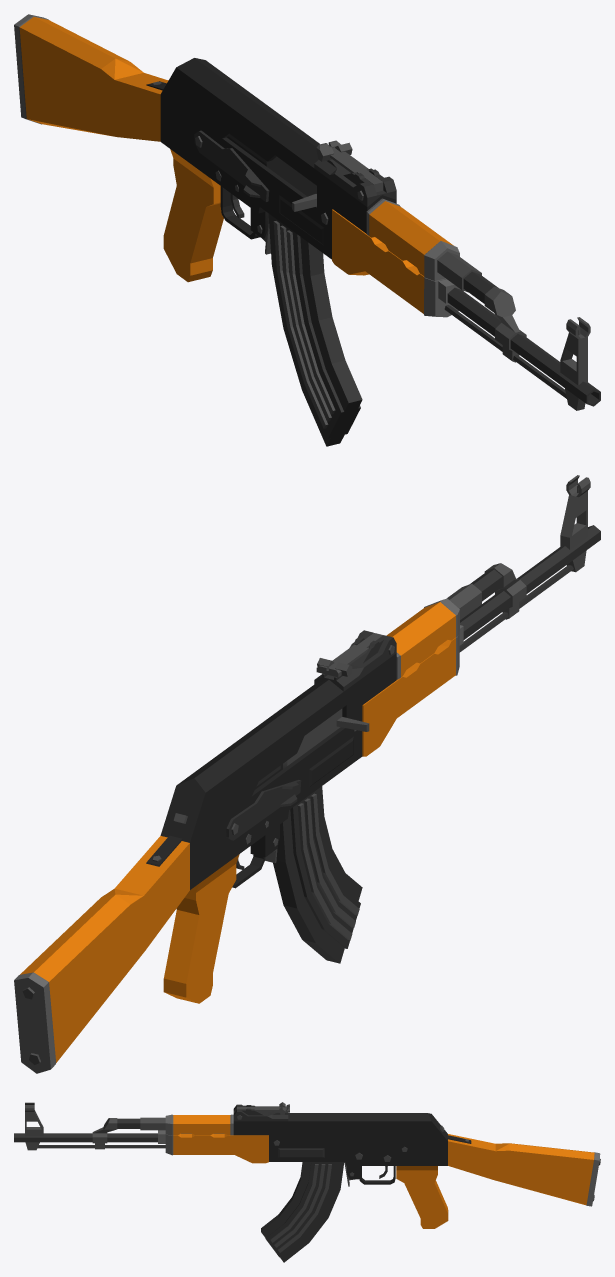
The picture shows the model from 3 angles, top to bottom: view 1: azimuth 30°, elevation 25°; view 2: azimuth 150°, elevation 25°; view 3: azimuth 270°, elevation 25°; orthographic projection. The views are drawn at different scales.
Parts seen in each view (by area): view 1: Ak47; view 2: Ak47; view 3: Ak47.
Part boxes in pixels (x1,y1,x2,y2): Ak47: (14,14,600,446); Ak47: (14,475,600,1073); Ak47: (14,1102,600,1262).
Size of the model in its own units: 1.94 by 10.39 by 35.21.
